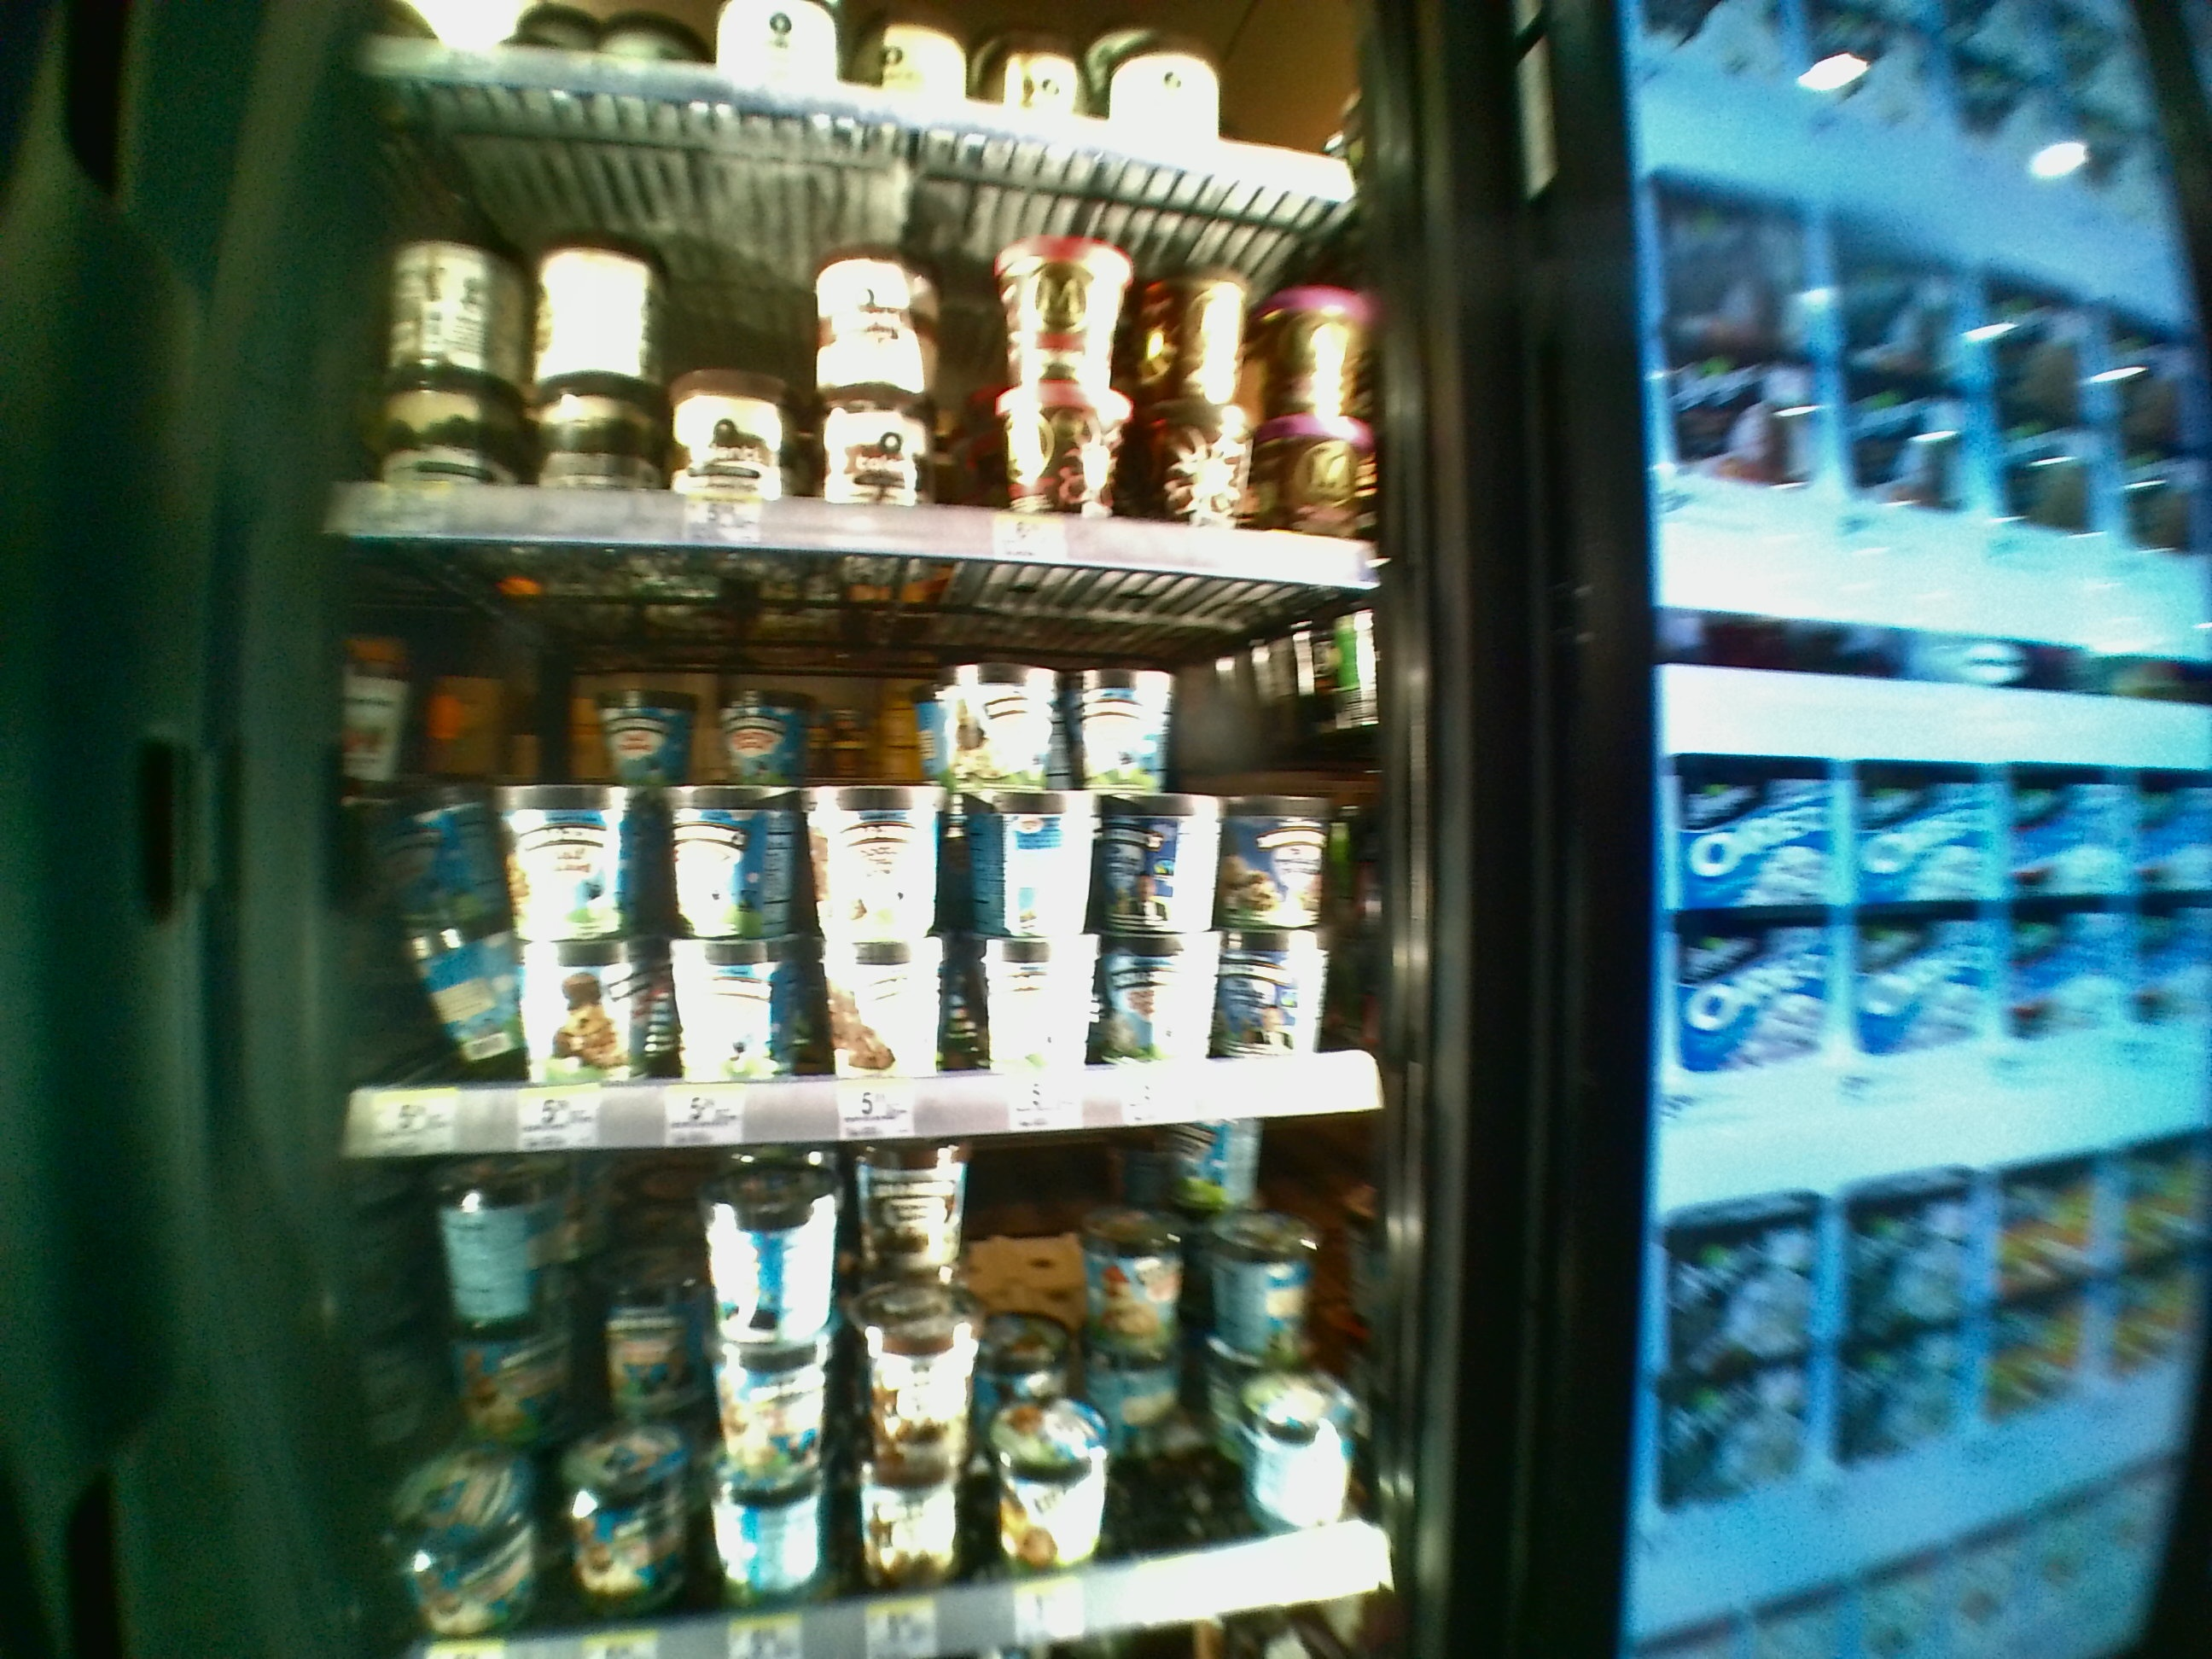shelf: (320, 561, 1411, 1155), (324, 89, 1407, 545)
